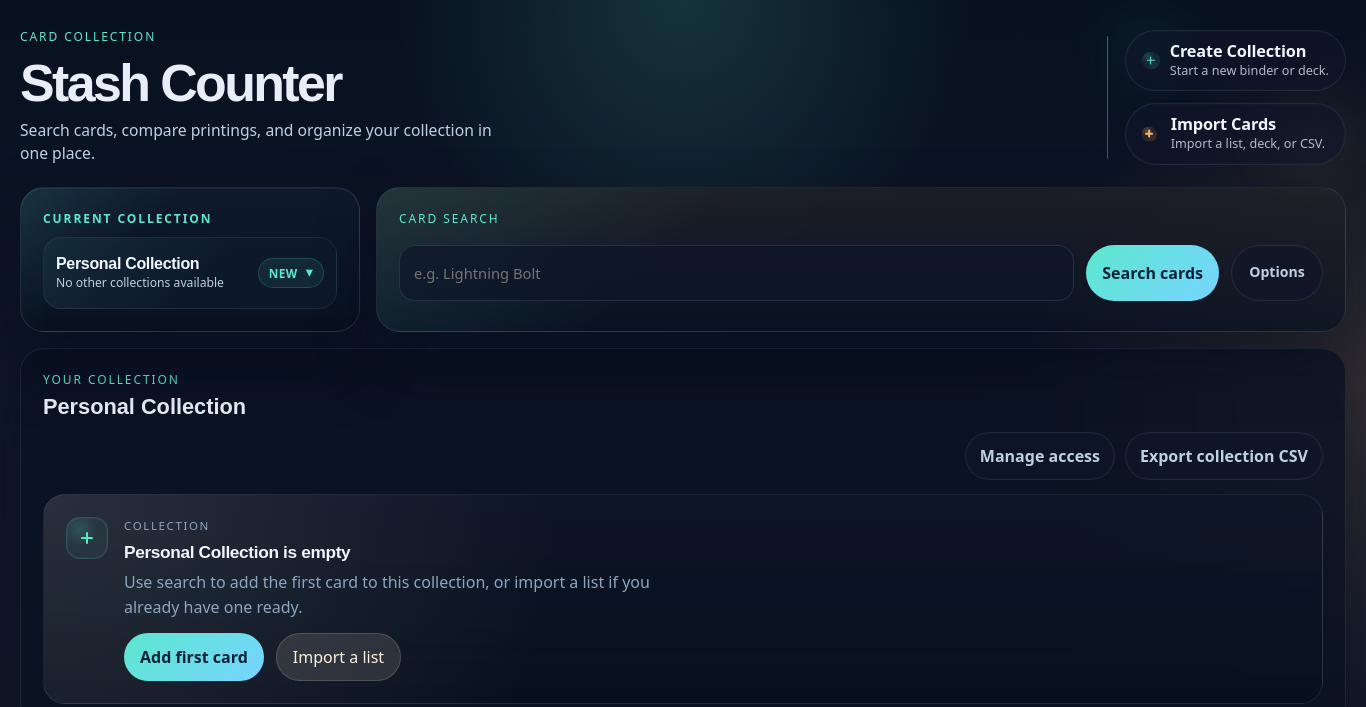
it: App › lets arrow-up return keyboard focus to the search input so Enter submits the full search
This screenshot has width=1366, height=707.
Type "Fo" into the dropdown named "Quick Add and Card Search" at (737, 273), box [399, 245, 1074, 301]
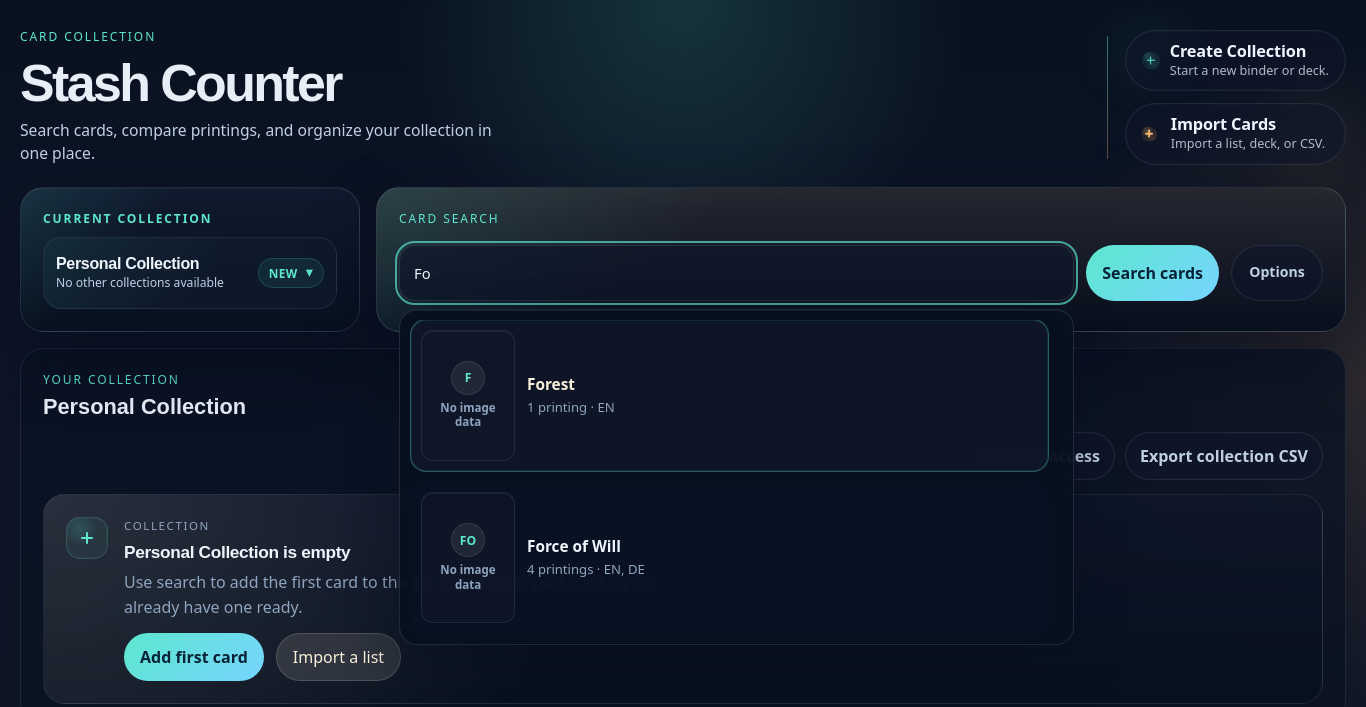
Expected: the option "F No image data Forest 1 printing · EN" is shown, [410, 320, 1049, 472]
Press Arrowup
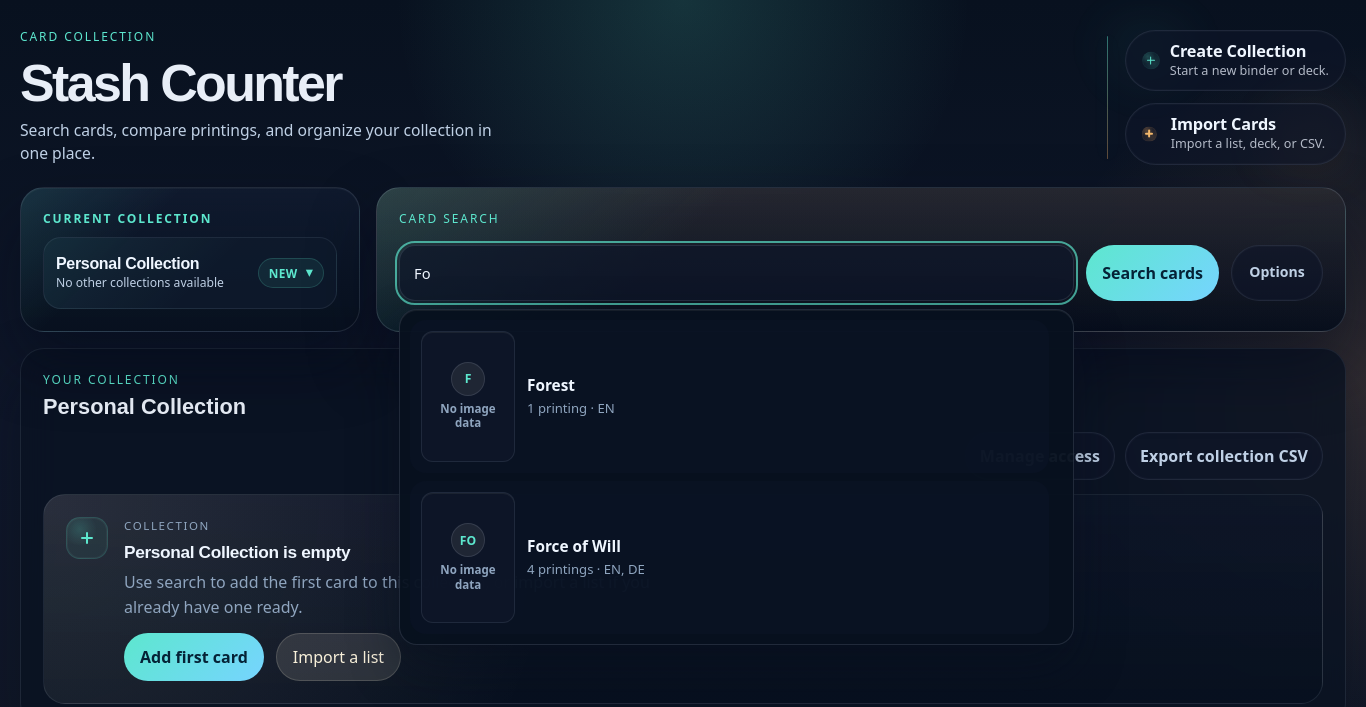
Press Enter
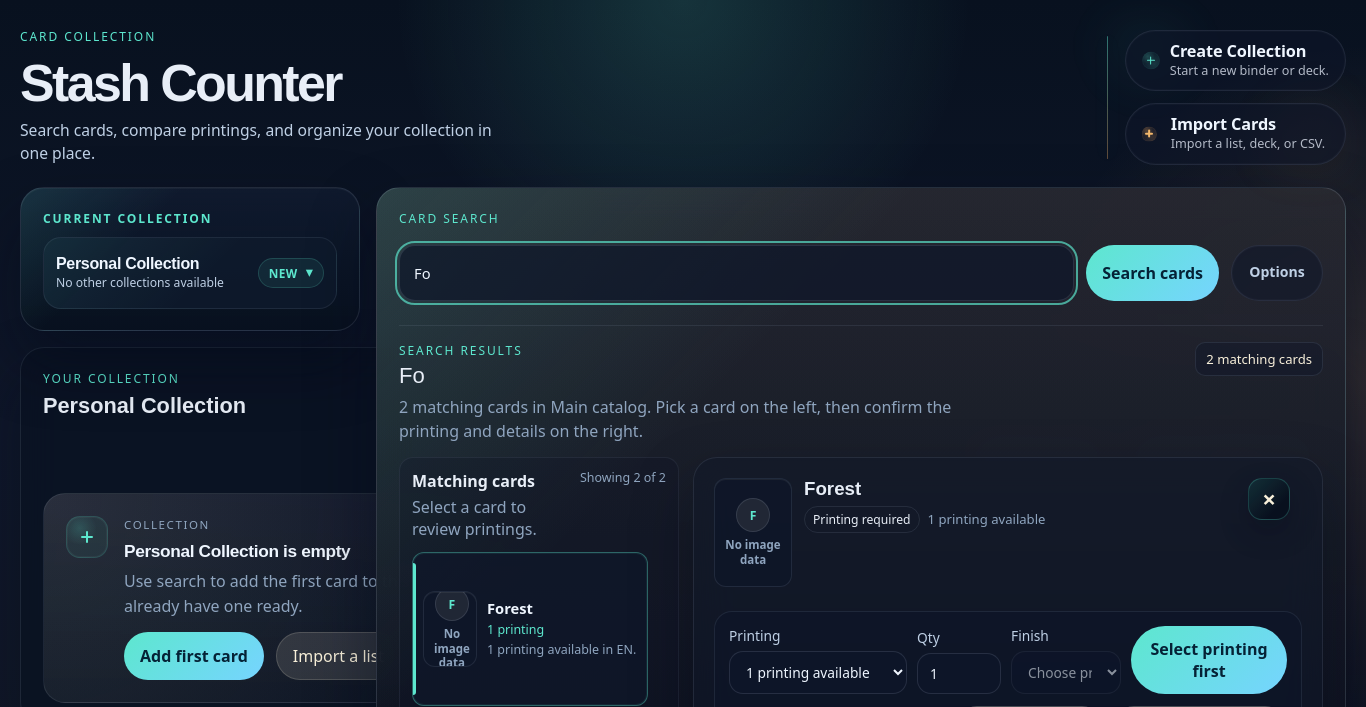
Expected: the heading "Forest" is shown, [804, 478, 861, 499]
Expected: the text "Matching cards" is shown, [412, 470, 535, 492]
